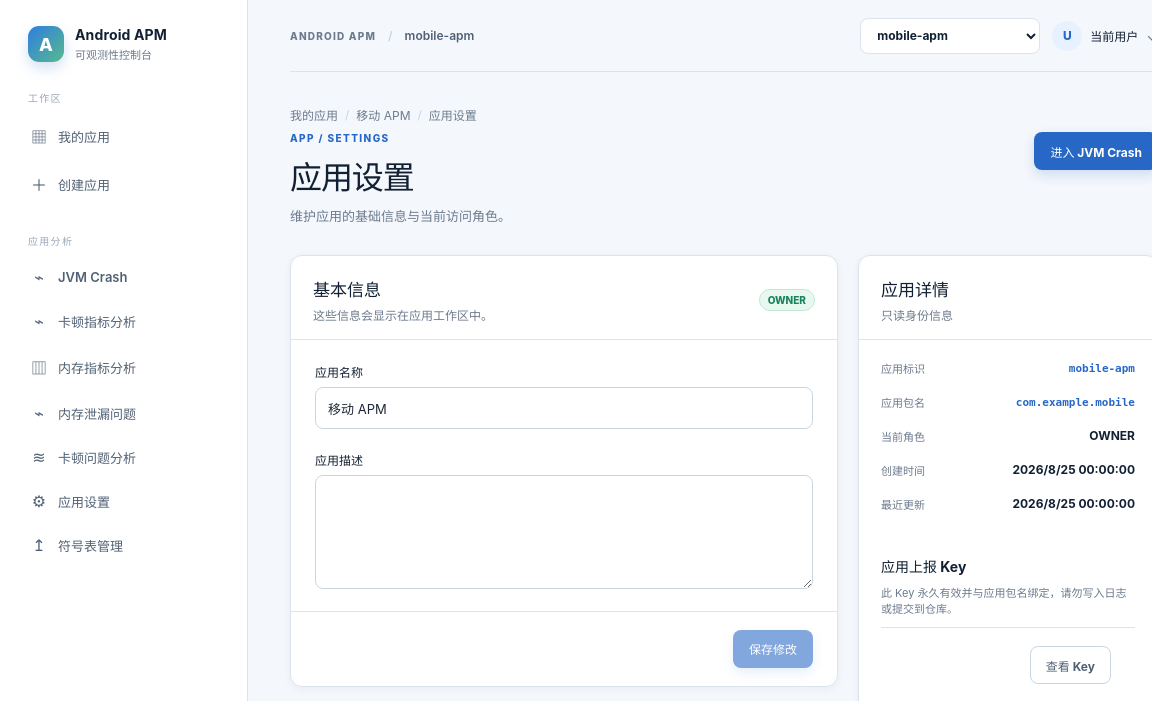
AppSettingsView › loads a key only on demand and supports hide and copy without storing it in the app
Click the button "查看 Key": (1070, 665) [1030,646,1111,684]
(page scrolled)
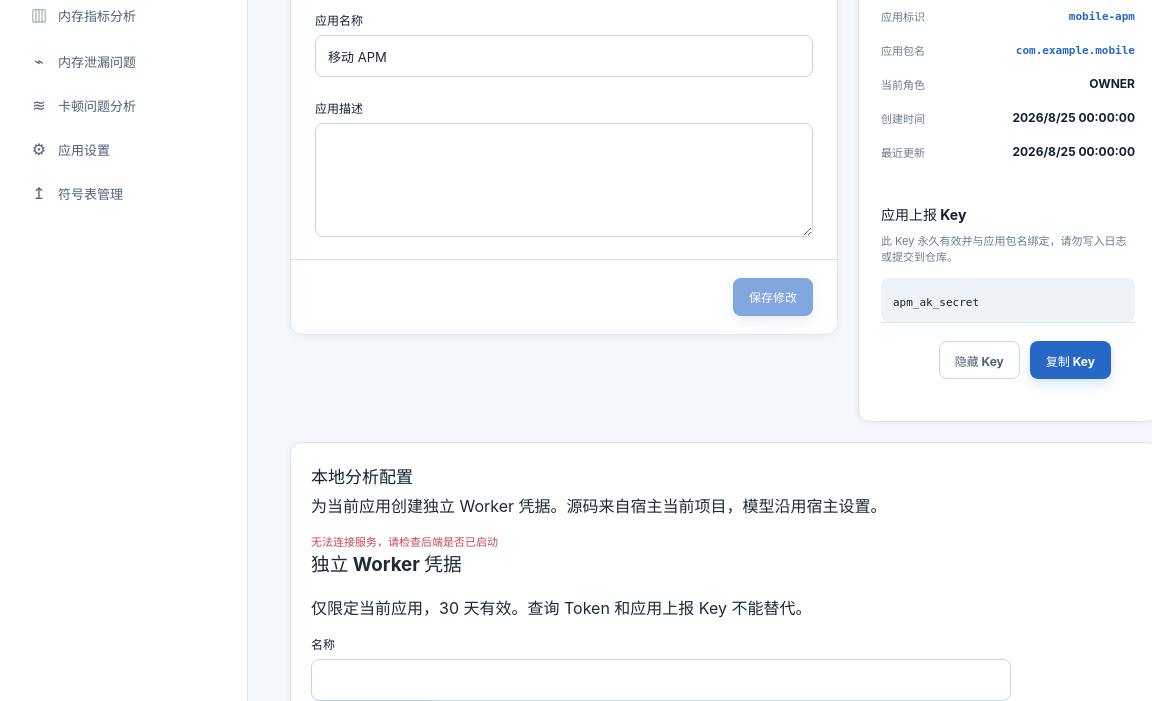
Expected: the text "apm_ak_secret" is shown, [893,296,979,309]
Click the button "复制 Key": (1070, 360) [1030,341,1111,379]
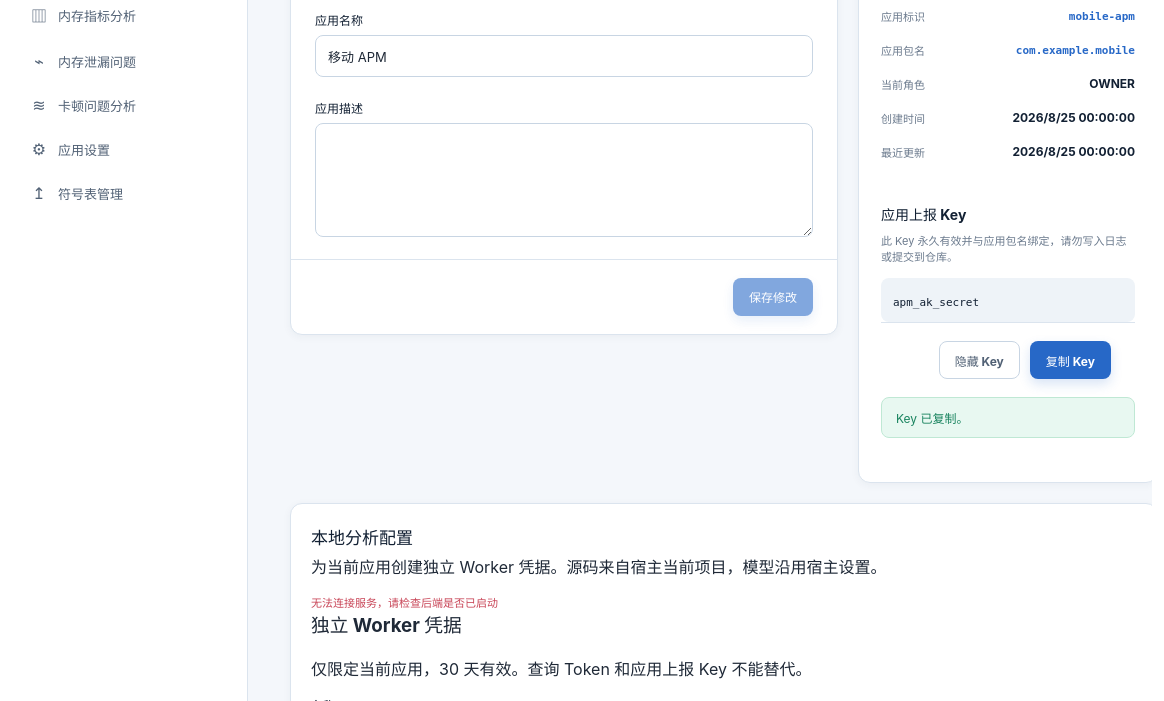
Click the button "隐藏 Key": (979, 360) [939,341,1020,379]
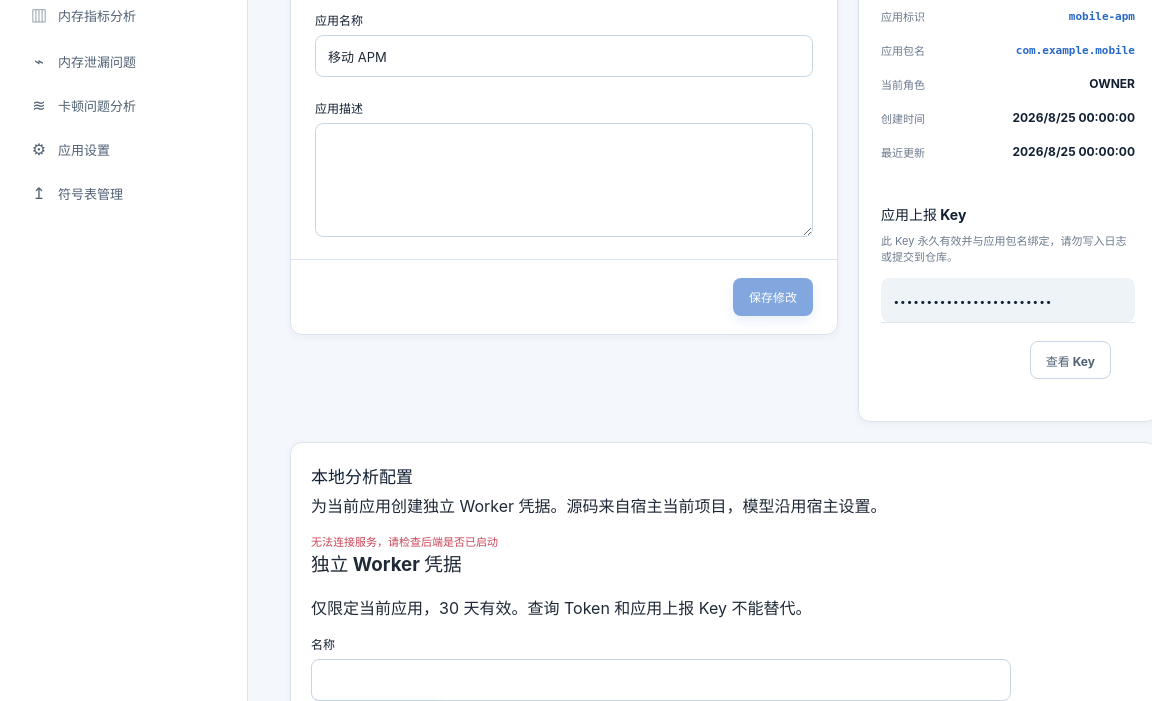
Expected: the text "apm_ak_secret" is gone
